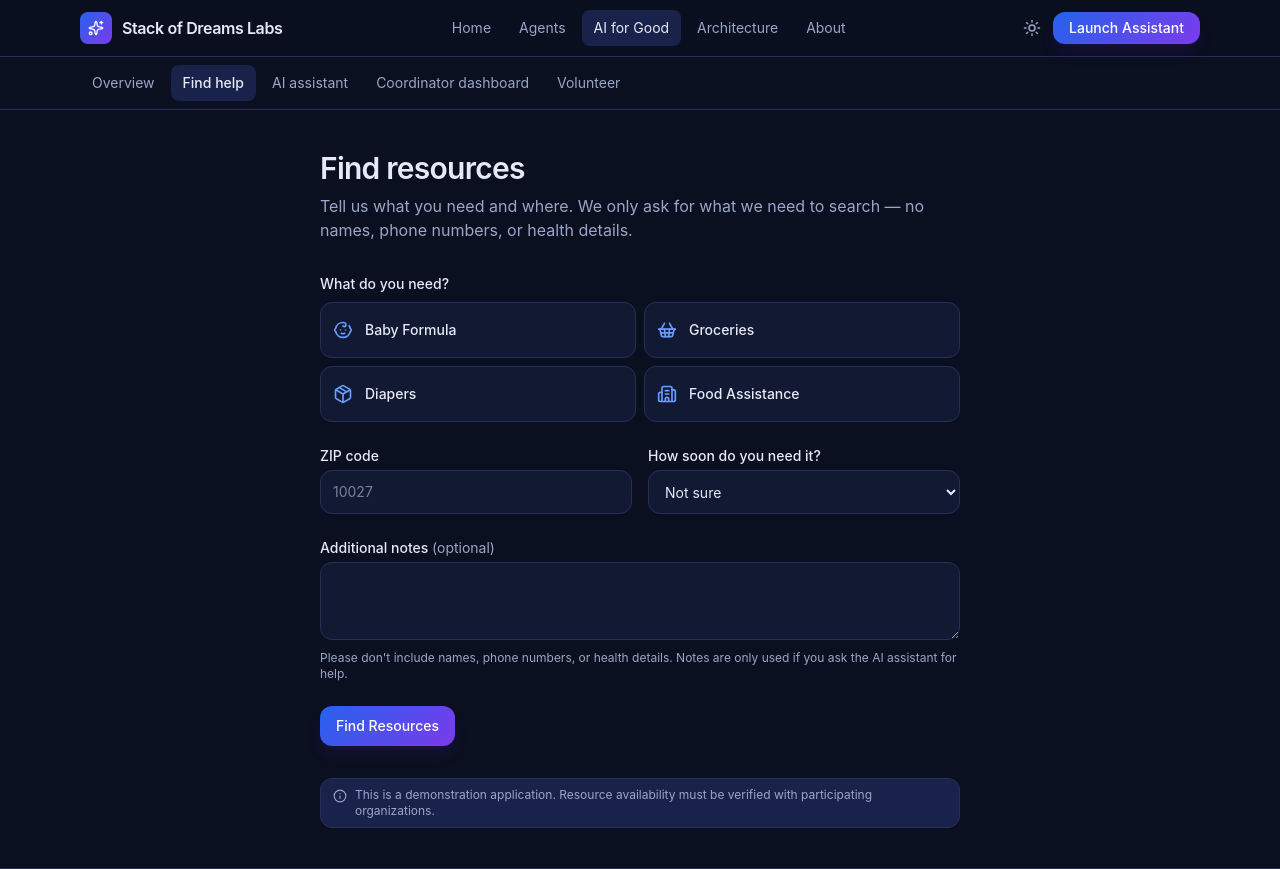
Test: guided search › shows accessible validation messages and does not search
Type "123" into the field labelled "ZIP code" at (476, 492), box [320,470,632,514]
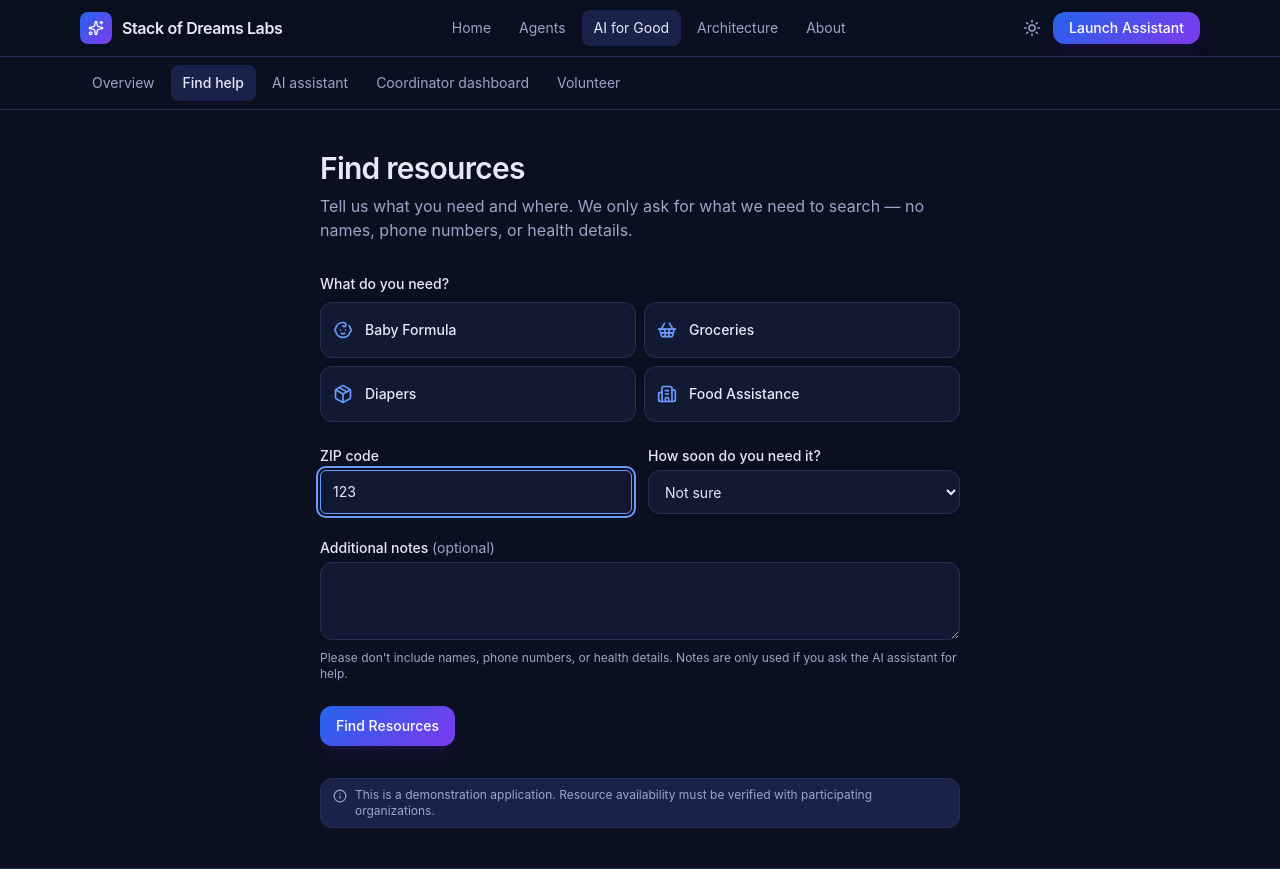
Click the button "Find Resources" at (388, 726), box [320,706,455,746]
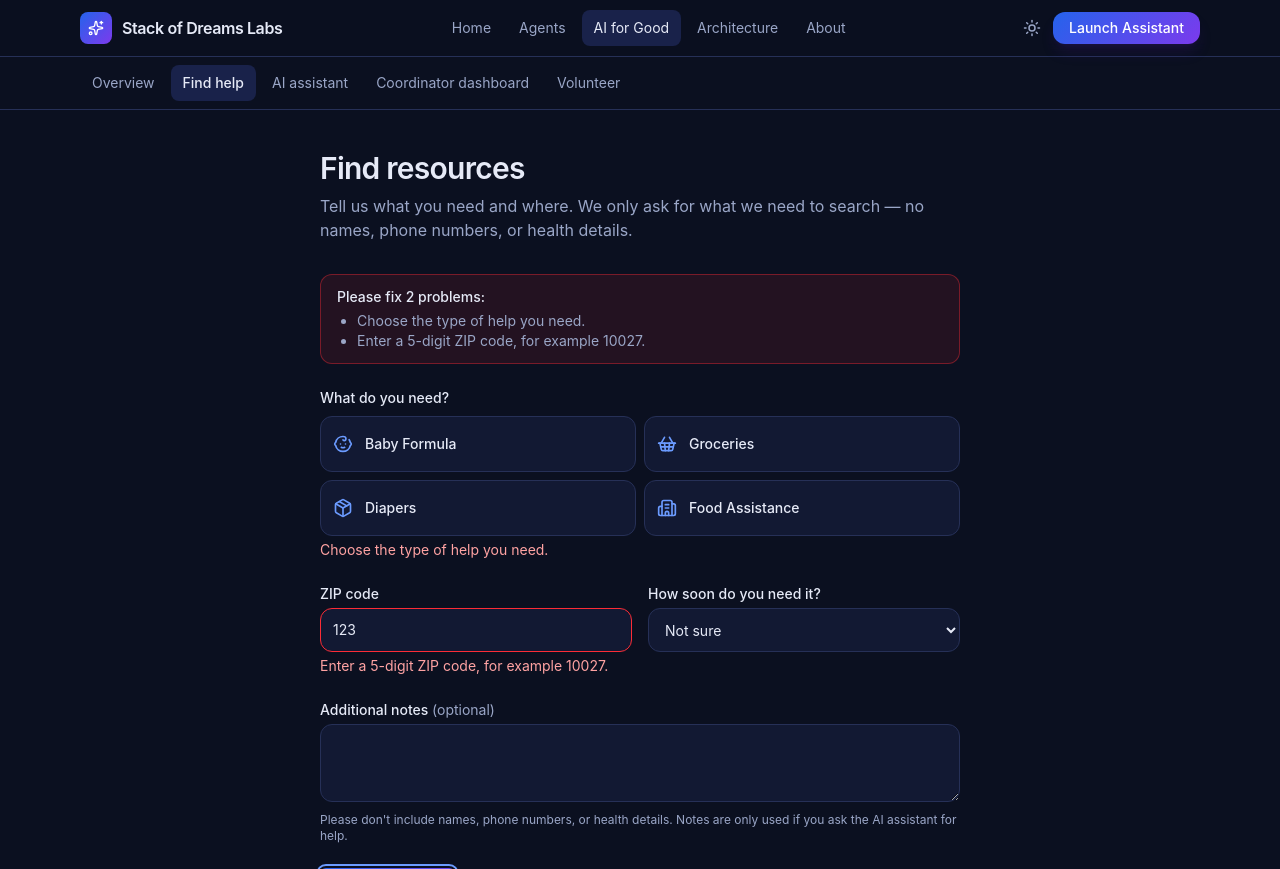
Expected: the message shows "Choose the type of help you need.", [357,312,585,329]
Expected: the message shows "5-digit ZIP", [357,332,645,349]
